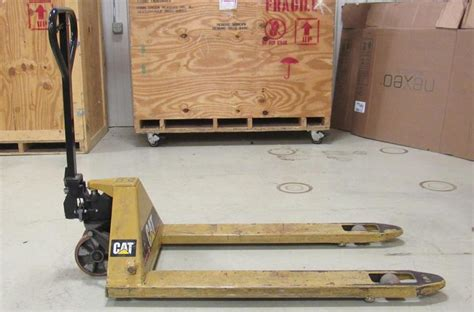Pallet Jack: (47, 7, 448, 304)
